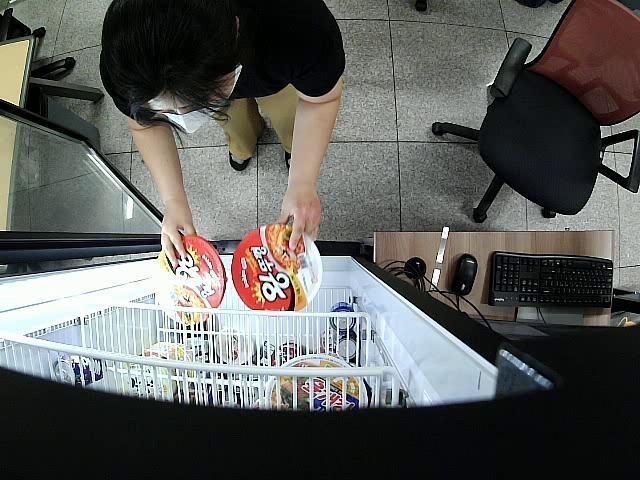10_wangTtukkeong: (232, 224, 322, 310), (158, 236, 226, 324)
